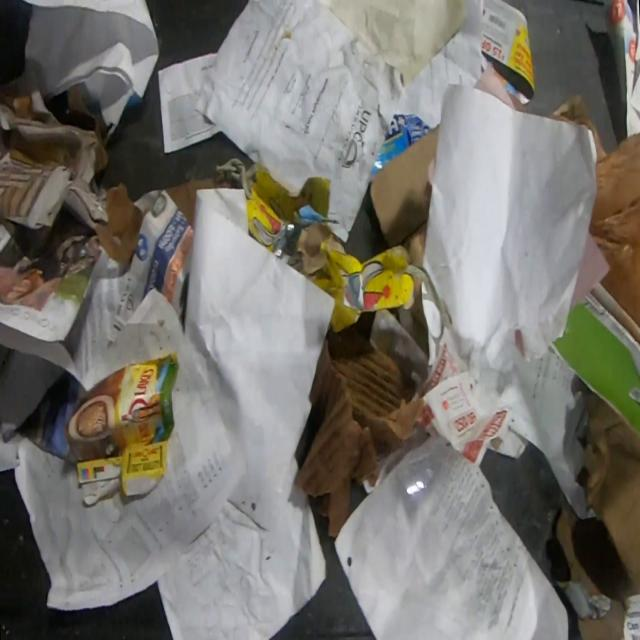cardboard: (292, 311, 425, 538), (245, 161, 416, 333), (554, 384, 640, 640), (0, 63, 109, 232), (66, 348, 180, 497), (549, 300, 640, 436), (368, 111, 440, 269), (94, 178, 146, 265), (164, 176, 239, 225)
soft_plastic: (546, 92, 640, 333), (374, 421, 465, 532)
